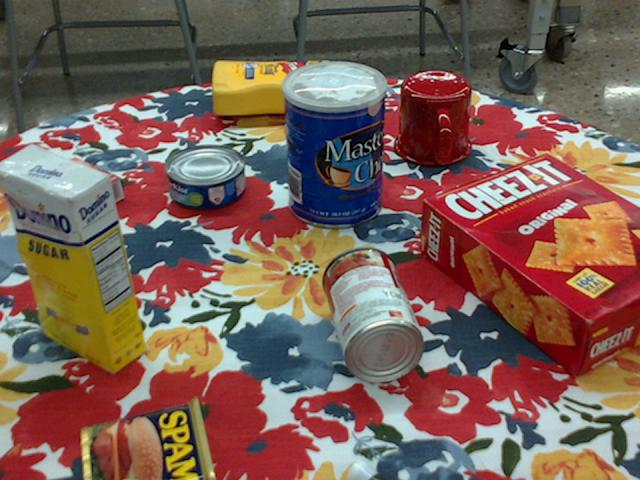cracker_box: (420, 153, 639, 378)
gelatin_box: (10, 160, 123, 236)
large_marker: (347, 460, 386, 479)
master_chef_can: (283, 61, 387, 229)
mug: (392, 71, 471, 167)
mustard_bottle: (210, 61, 365, 114)
potted_meat_can: (80, 396, 214, 479)
sugar_box: (0, 142, 145, 373)
tomato_soup_can: (321, 247, 426, 383)
tuna_fish_can: (163, 145, 244, 210)
